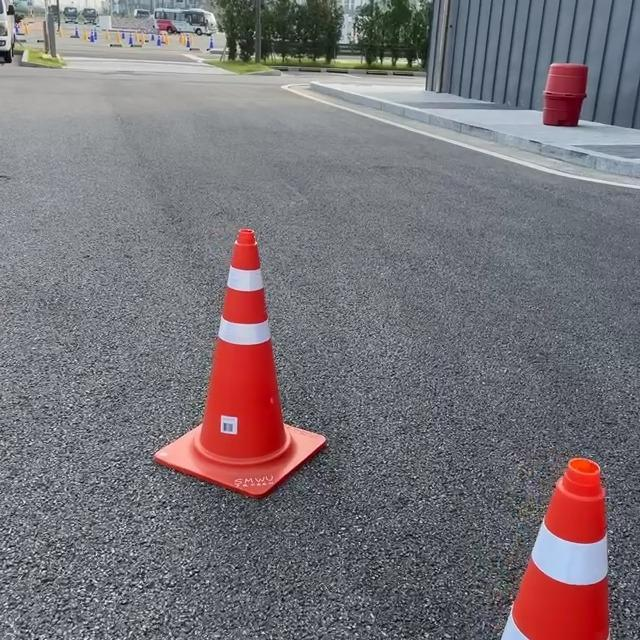fallen_object: (156, 219, 341, 523), (463, 399, 640, 640)
